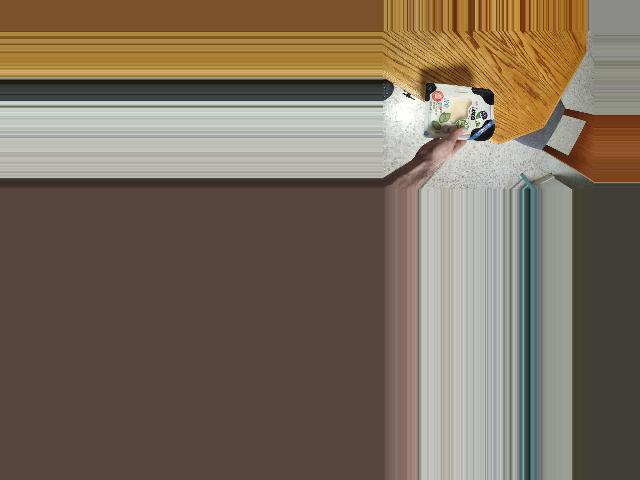cheese: (411, 83, 506, 138)
